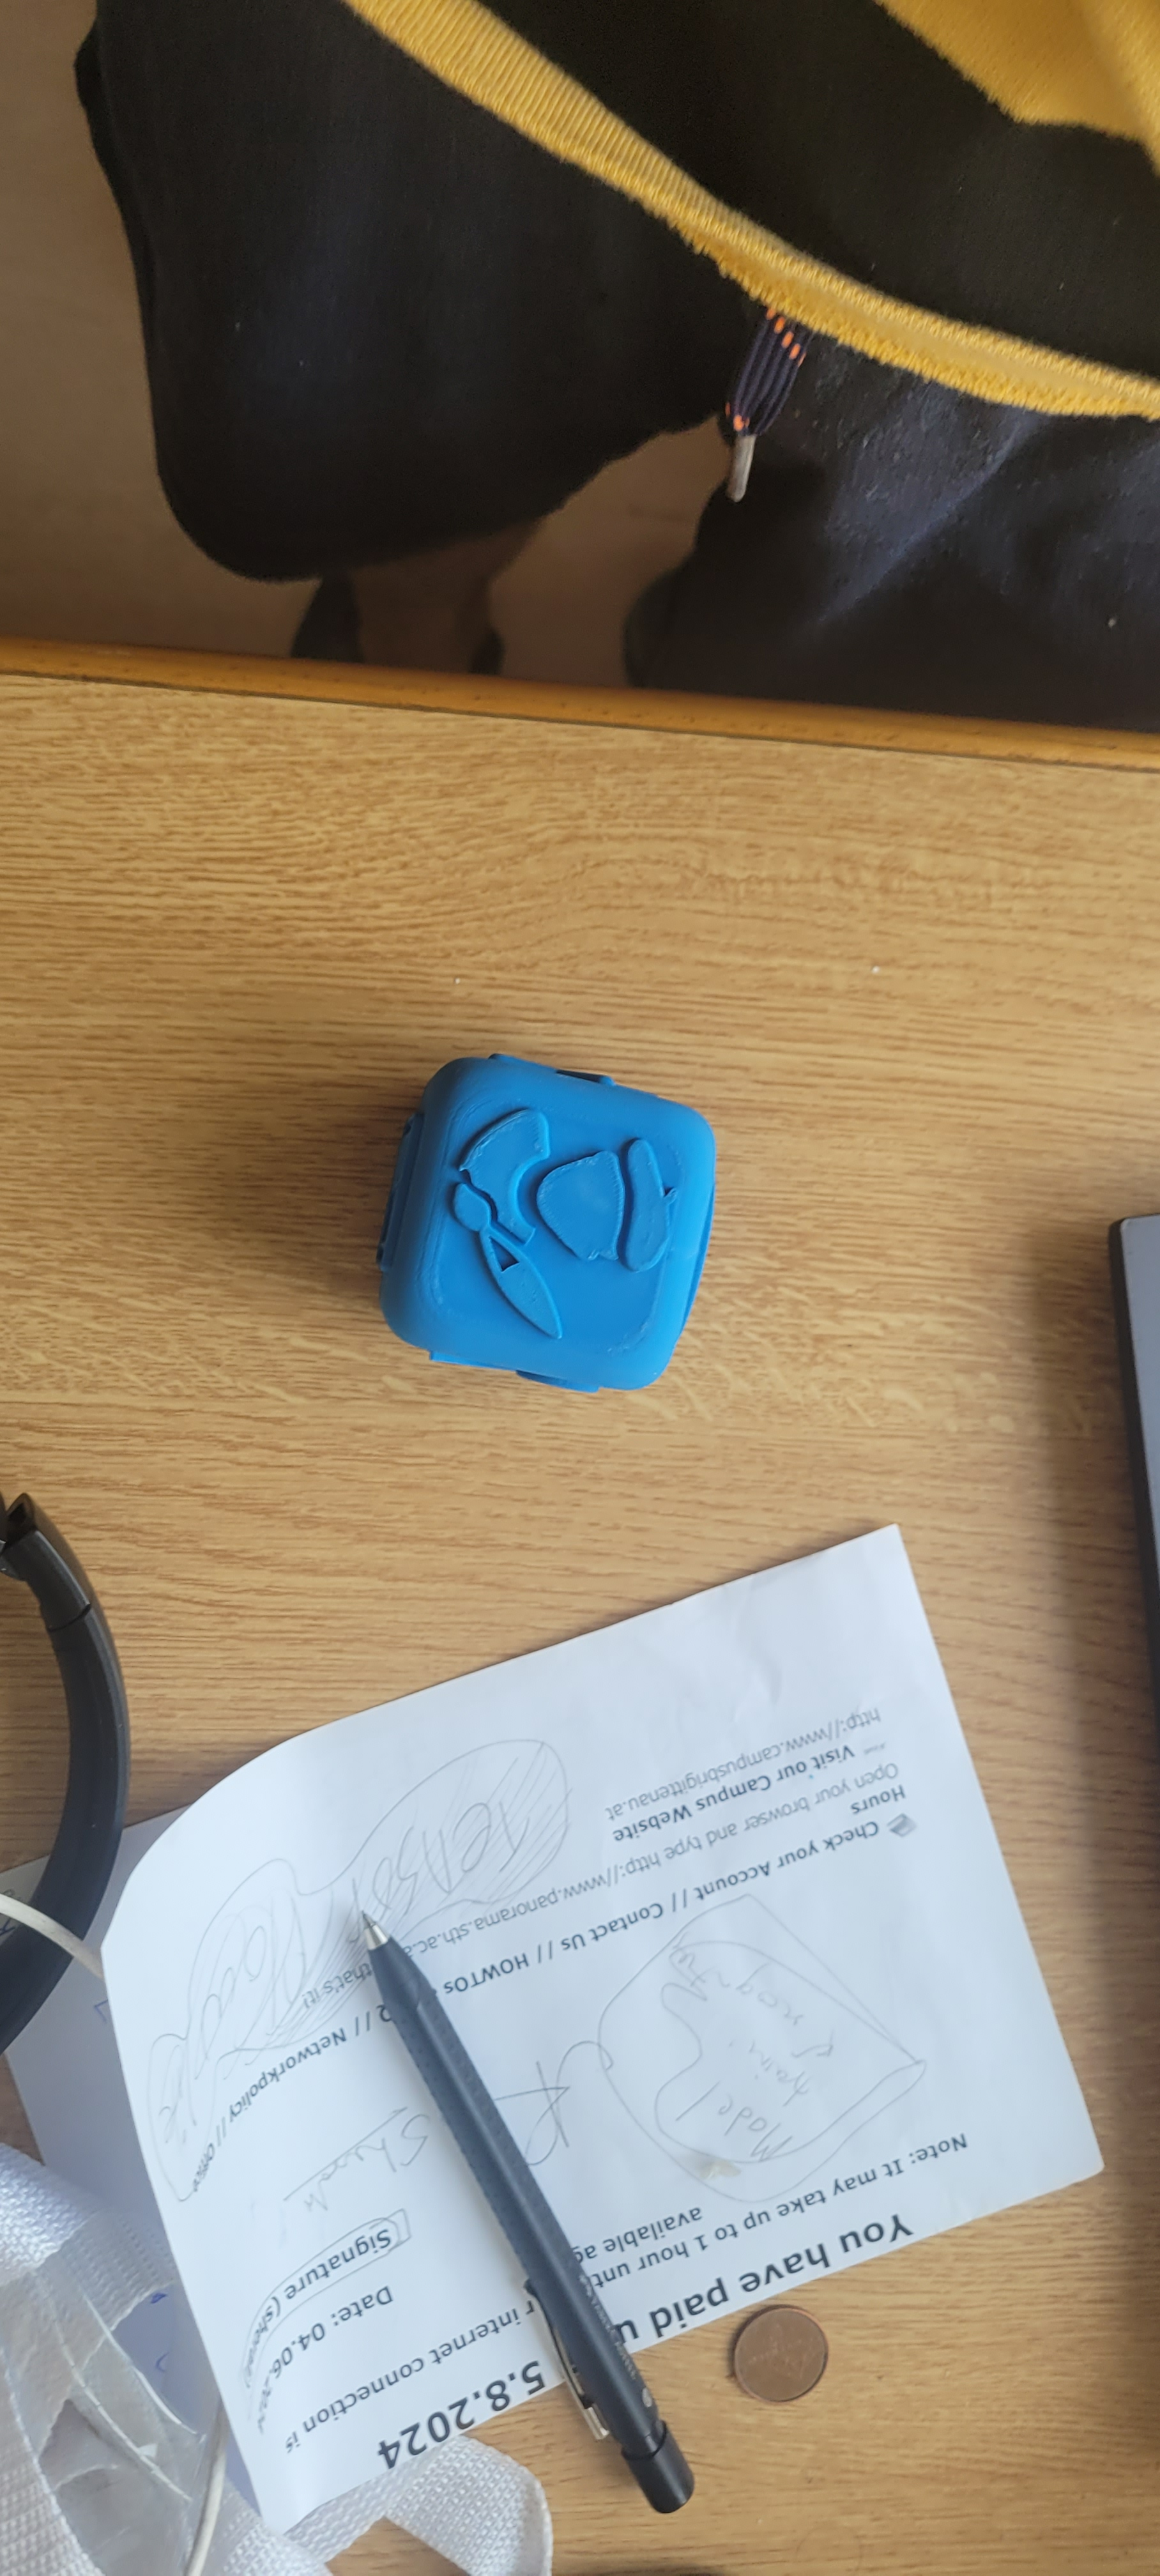Artist_Info: (404, 1040, 721, 1380)
